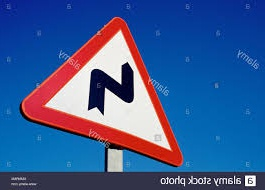Double_bend_right: (18, 18, 187, 167)
